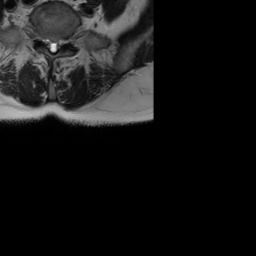CCS_severe_stenosis: (50, 33, 56, 59)
LFS_stenosis: (62, 30, 69, 48)
LLS_normal: (56, 33, 62, 54)
RFS_stenosis: (36, 28, 44, 48)
RLS_normal: (44, 33, 50, 54)
